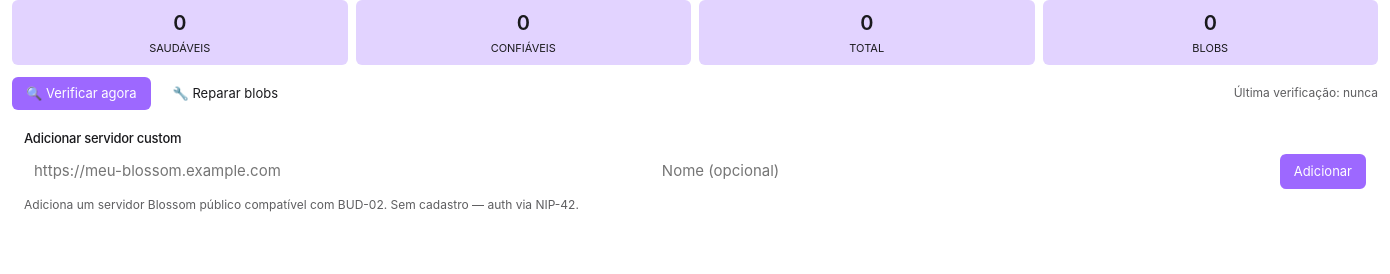
Test: BlossomServersPanel › shows error for invalid URL (no protocol)
Type "not-a-url" into the field with test id "blossom-url-input".
click(334, 172); type("not-a-url")  # box [24,154,644,189]
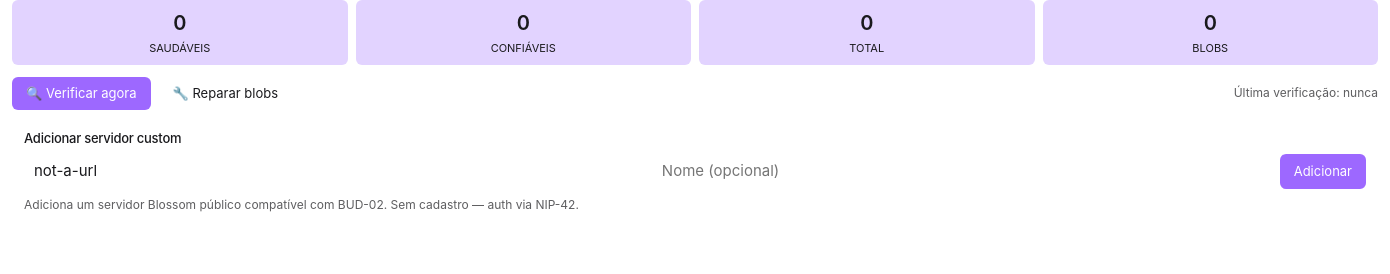
Click the button with test id "blossom-add-btn".
click(1323, 172)  # box [1280,154,1366,189]
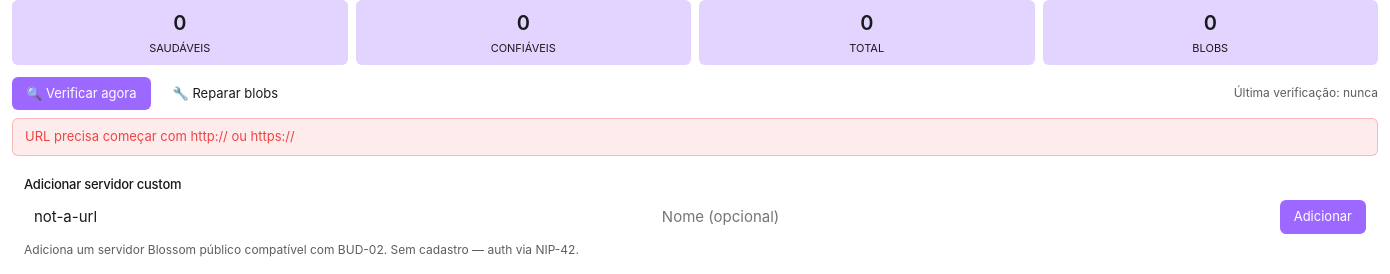
Result: the text "http://" is shown at [25,128,295,144]
